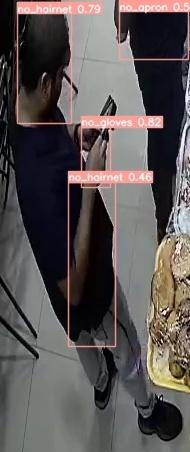no_apron: (26, 14, 126, 334)
